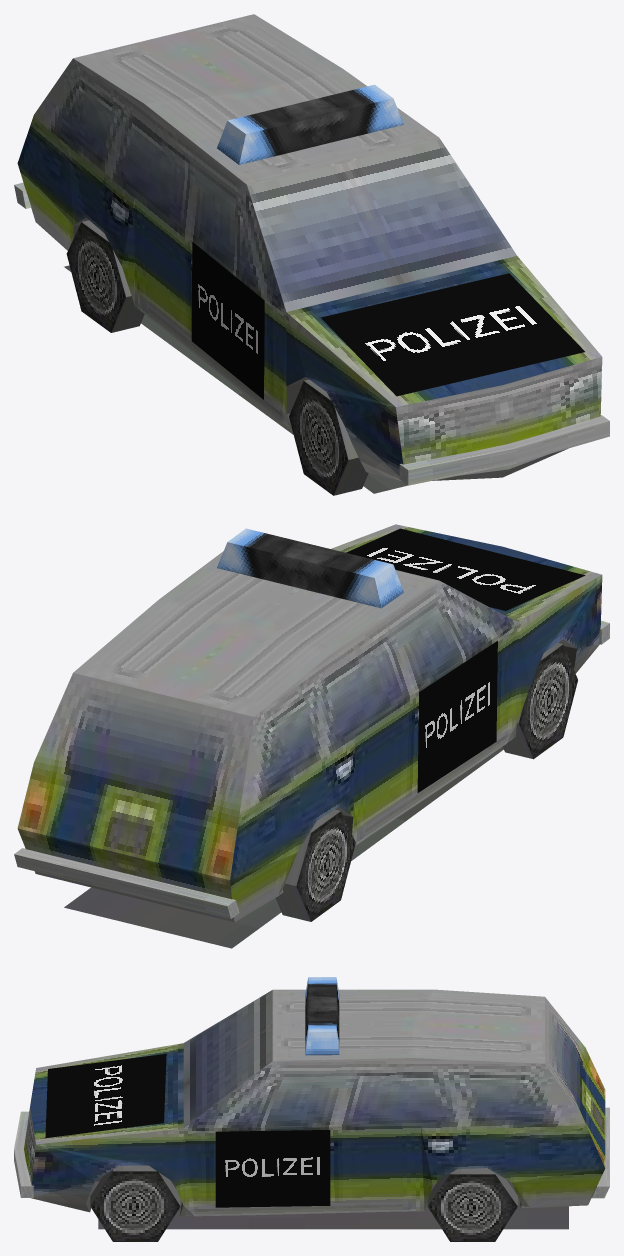
Rendered from Police.glb.
The picture shows the model from 3 angles, top to bottom: view 1: azimuth 30°, elevation 25°; view 2: azimuth 150°, elevation 25°; view 3: azimuth 270°, elevation 25°; orthographic projection. The views are drawn at different scales.
Parts seen in each view (by area): view 1: Car; view 2: Car; view 3: Car.
Part boxes in pixels (x1,y1,x2,y2): Car: (14,14,609,495); Car: (14,524,609,948); Car: (14,977,609,1241).
Bounding box in the file's own units: 2.32 × 2.34 × 6.48.
Materials: 2 (2 with a texture image).
